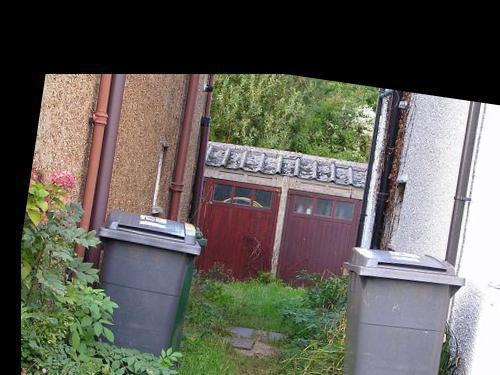Bote de Basura: (328, 242, 460, 375), (94, 215, 199, 375)
